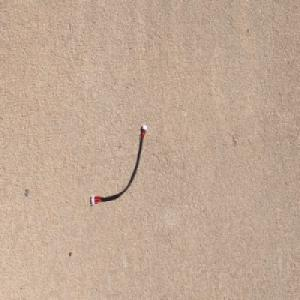Wire: (90, 123, 147, 207)
